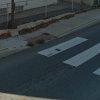Crosswalk: (41, 26, 100, 74)
